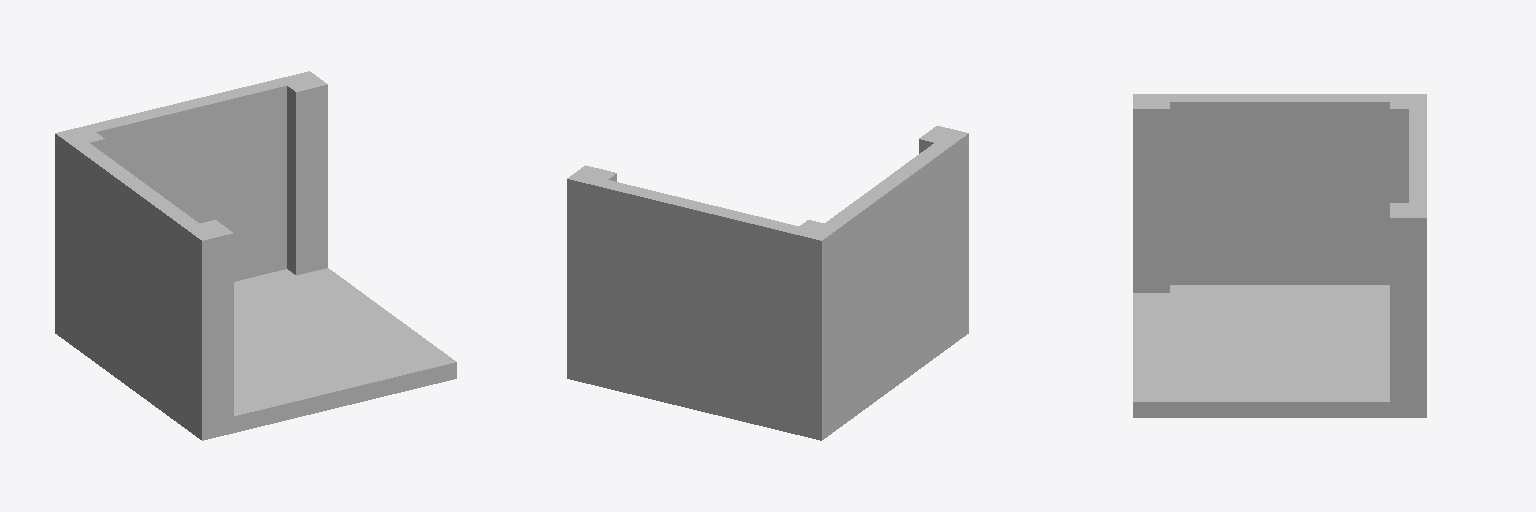
File: Corner.obj
3 renders of one model, left to right at view 1: azimuth 30°, elevation 25°; view 2: azimuth 150°, elevation 25°; view 3: azimuth 270°, elevation 25°, orthographic.
Visible parts, largest first — view 1: Cube.000_Cube.004; view 2: Cube.000_Cube.004; view 3: Cube.000_Cube.004.
Part boxes in pixels (left/top/right/bottom): Cube.000_Cube.004: left=55, top=71, right=456, bottom=440; Cube.000_Cube.004: left=567, top=126, right=968, bottom=440; Cube.000_Cube.004: left=1133, top=94, right=1426, bottom=417.
Bounding box in the file's own units: 16 × 12 × 16.